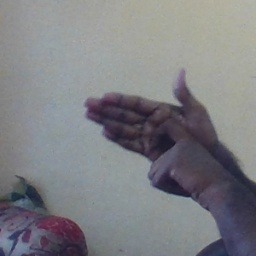R: (78, 63, 223, 200)
